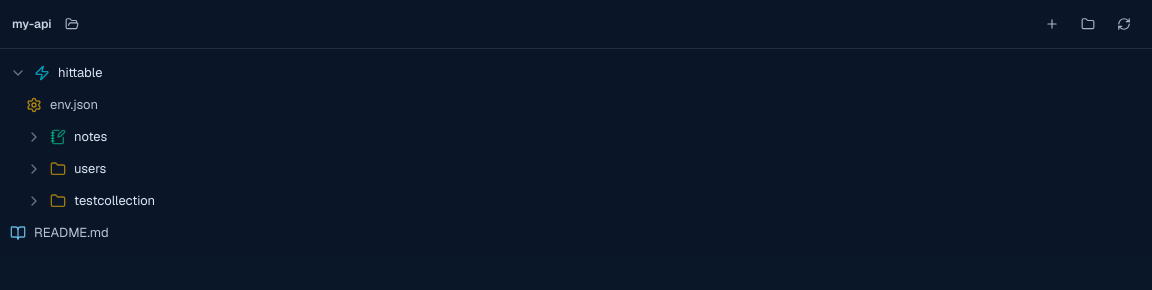
Test case: DirectoryTree (explorer) › New File at the root creates it and shows it in the tree
Click the button named "New File" at x=1052, y=24, box [1036, 8, 1068, 40]
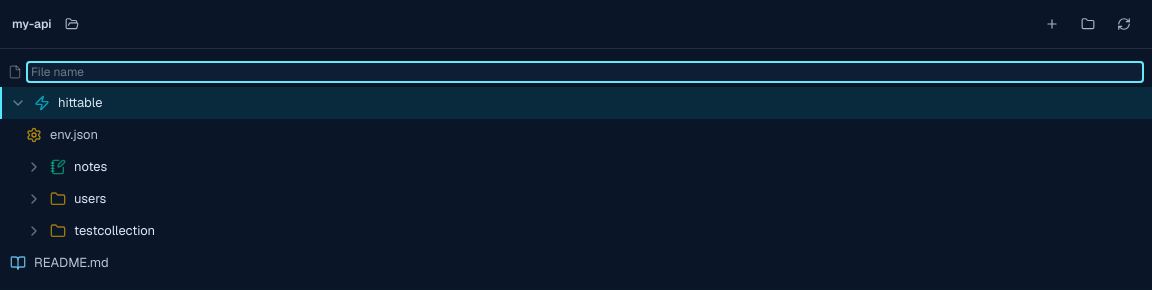
Type "todo.txt" into the field with placeholder "File name" at x=585, y=72, box [26, 61, 1144, 83]
Then press Enter
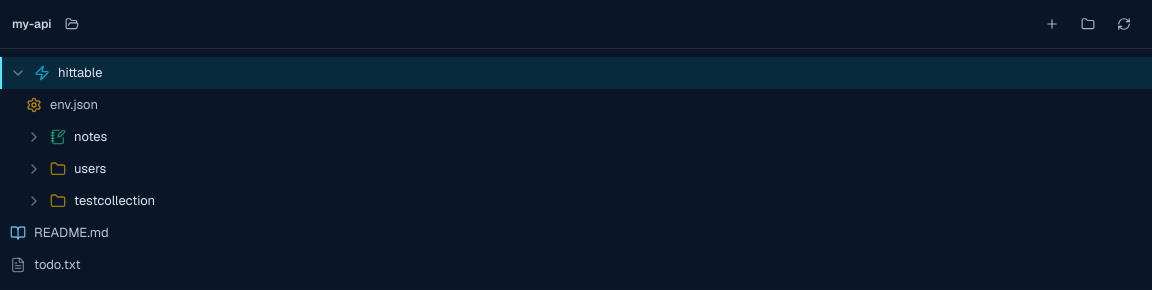
Expected: the list item "todo.txt" is shown, [10, 256, 81, 273]
